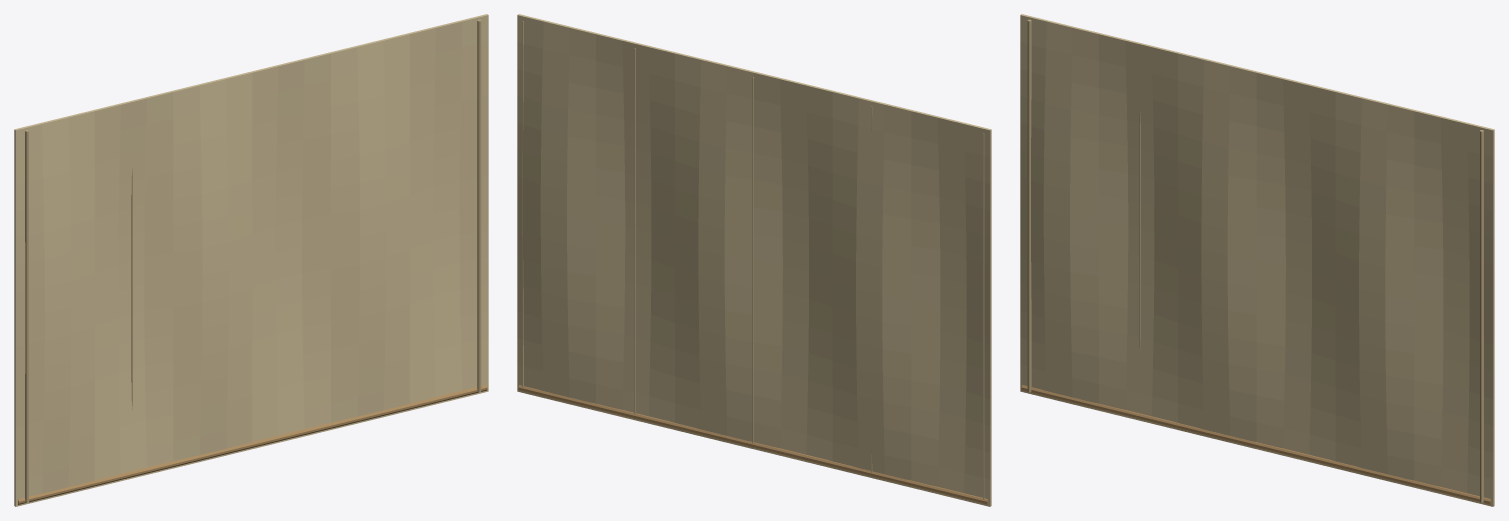
File: moonbay-sail-v1.glb
The picture shows the model from 3 angles, left to right: view 1: azimuth 30°, elevation 25°; view 2: azimuth 150°, elevation 25°; view 3: azimuth 330°, elevation 25°; orthographic projection.
Visible parts, largest first — view 1: MB_canvas_geometry, MB_rope_geometry, MB_woodlight_geometry; view 2: MB_canvas_geometry, MB_woodlight_geometry, MB_rope_geometry; view 3: MB_canvas_geometry, MB_rope_geometry, MB_woodlight_geometry.
Part boxes in pixels (<box>): MB_canvas_geometry: <box>14,14,488,506</box>; MB_rope_geometry: <box>25,19,481,502</box>; MB_woodlight_geometry: <box>18,385,487,504</box>; MB_canvas_geometry: <box>517,14,991,506</box>; MB_woodlight_geometry: <box>518,385,988,504</box>; MB_rope_geometry: <box>522,21,984,499</box>; MB_canvas_geometry: <box>1020,14,1494,506</box>; MB_rope_geometry: <box>1027,19,1483,502</box>; MB_woodlight_geometry: <box>1021,385,1491,504</box>.
Size of the model in its own units: 9.2 by 7 by 0.2405.
